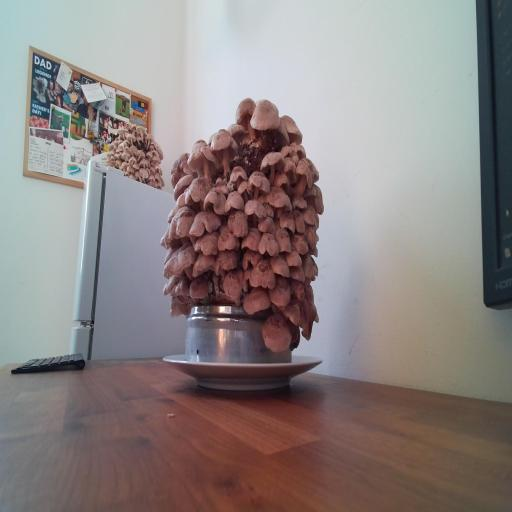Shiitake Mushroom: (176, 132, 232, 194), (196, 119, 251, 179), (254, 304, 299, 365), (215, 256, 254, 309), (178, 166, 216, 219), (253, 139, 292, 188), (261, 268, 300, 317), (165, 196, 199, 247), (181, 203, 227, 240), (236, 188, 274, 232), (294, 178, 335, 217), (291, 289, 321, 342), (274, 107, 309, 152), (163, 239, 198, 281), (236, 282, 277, 317), (284, 156, 316, 199), (221, 113, 254, 152), (207, 244, 244, 277), (220, 159, 255, 193), (185, 247, 222, 278), (265, 119, 294, 158), (245, 163, 273, 203), (249, 98, 281, 133), (167, 166, 199, 201), (283, 226, 317, 258), (234, 97, 257, 144), (171, 149, 206, 179), (277, 151, 305, 187), (277, 295, 303, 333), (235, 242, 269, 271), (257, 185, 294, 210), (249, 258, 276, 289), (157, 269, 184, 299), (253, 212, 283, 238), (203, 184, 227, 216), (226, 208, 249, 241), (300, 219, 323, 252), (273, 222, 294, 258), (163, 159, 189, 188), (284, 137, 311, 163), (266, 252, 294, 277), (193, 230, 220, 255), (285, 314, 303, 351), (217, 224, 240, 251), (303, 155, 322, 186), (272, 166, 293, 194), (171, 187, 195, 211), (222, 189, 247, 212), (258, 231, 280, 257), (291, 204, 308, 237), (189, 274, 210, 300), (241, 226, 262, 251), (235, 177, 253, 205), (288, 277, 308, 302), (278, 209, 298, 233), (160, 225, 180, 249), (214, 177, 234, 201), (301, 251, 315, 282), (169, 296, 190, 316), (164, 203, 181, 226), (187, 135, 210, 151), (290, 193, 310, 210), (157, 233, 172, 254), (287, 149, 304, 166), (286, 248, 302, 266), (303, 204, 316, 225), (174, 277, 186, 298), (304, 281, 314, 306), (180, 274, 191, 296), (290, 266, 305, 282), (279, 144, 294, 158), (305, 244, 320, 257)
